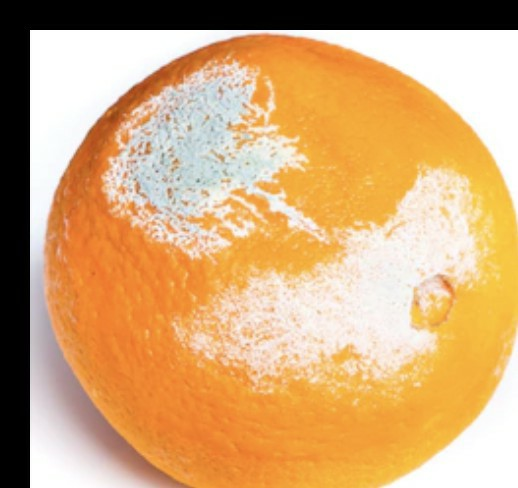rotten_orange: (45, 36, 518, 488)
